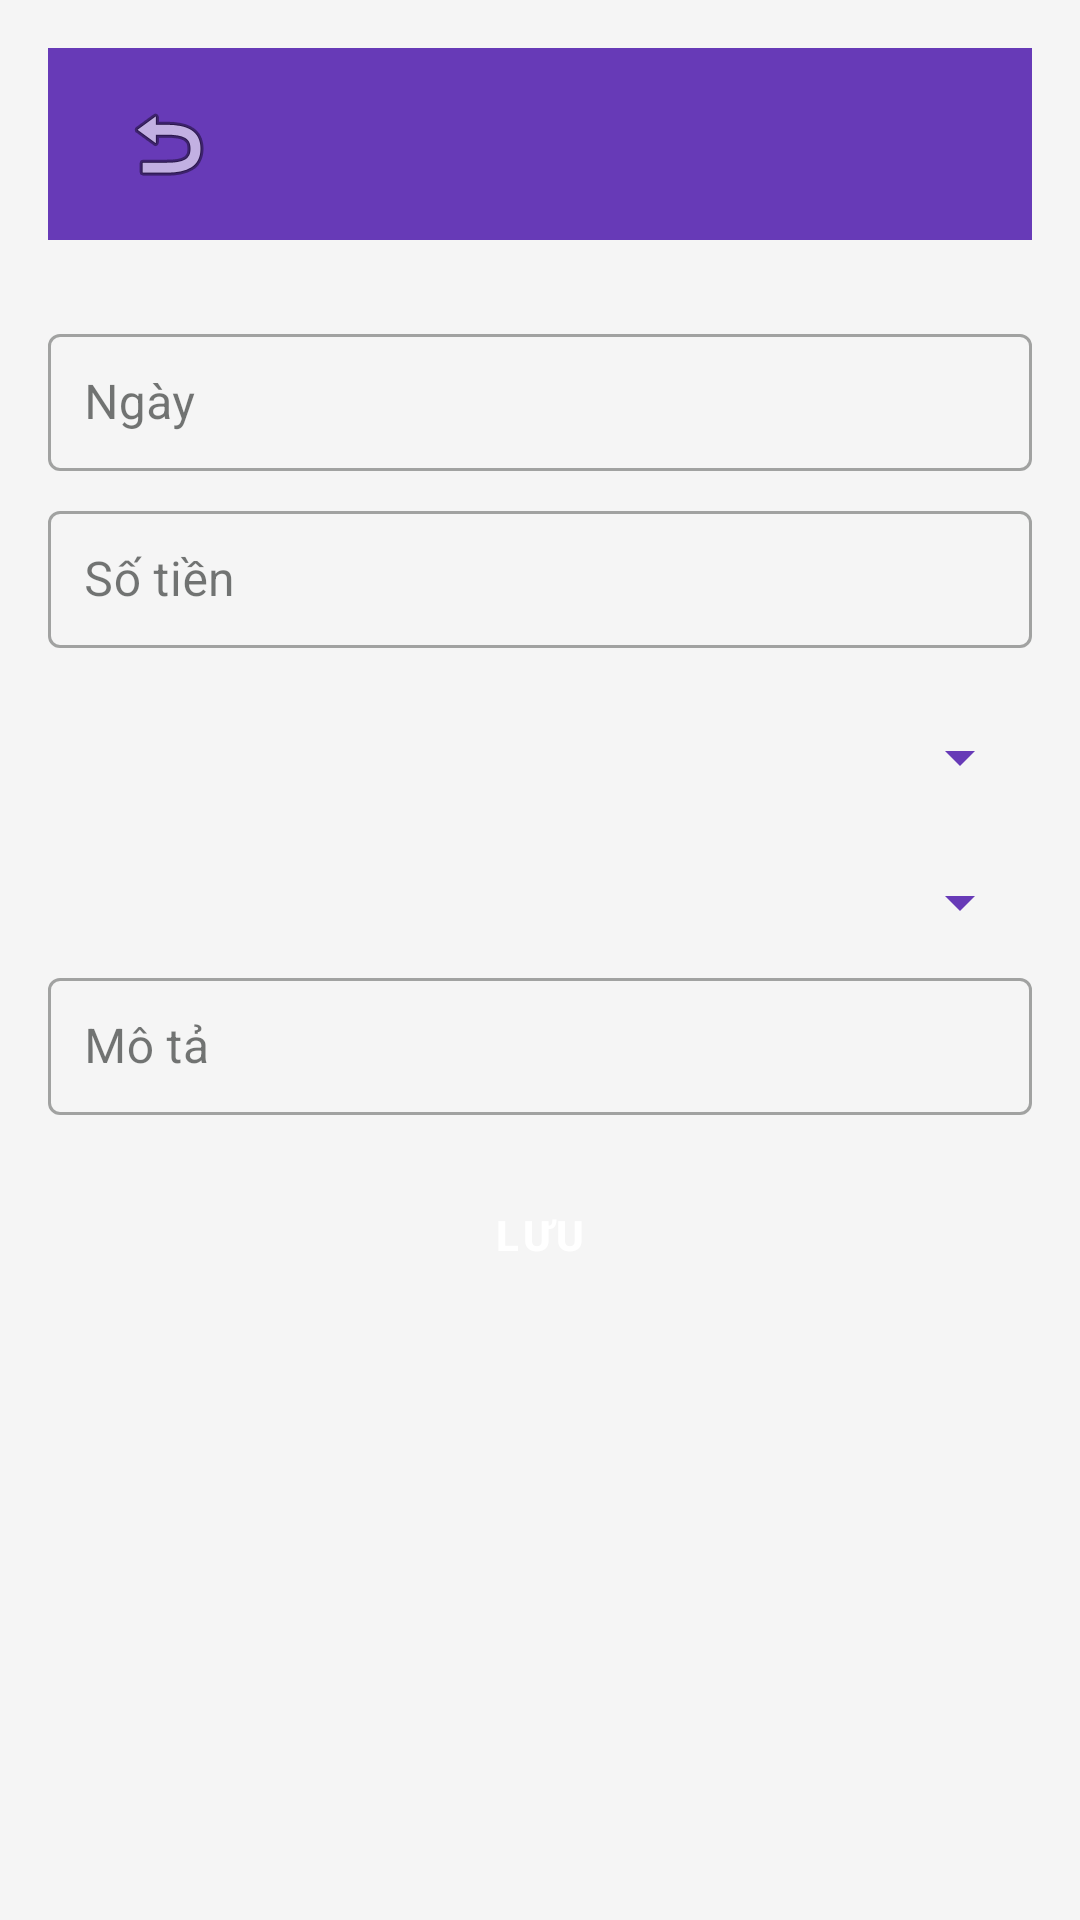

Where icons sit on this 1080px x 1920px app screen, as [x1=x1, y1=y1, x2=x2, y2=y2]:
revert: [x1=135, y1=113, x2=204, y2=176]
